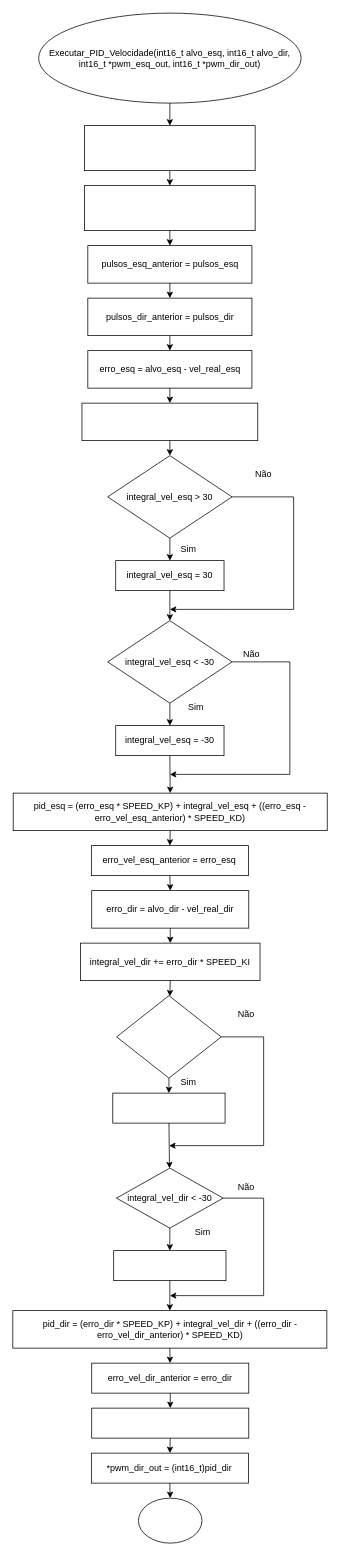
Image size: 341x1556. Some labels were removed from this diagram. The shapes that lost their labels are listed below. From the top down, each one's box as (x1, y1, x2, y2) in pixels, then its label:
(84, 125, 255, 171): vel_real_esq = (int16_t)(pulsos_esq - pulsos_esq_anterior)
(84, 185, 255, 231): vel_real_dir = (int16_t)(pulsos_dir - pulsos_dir_anterior)
(81, 402, 258, 441): integral_vel_esq += erro_esq * SPEED_KI
(116, 995, 221, 1078): integral_vel_dir > 30
(112, 1092, 225, 1123): integral_vel_dir = 30
(113, 1250, 226, 1281): integral_vel_dir = -30
(91, 1407, 249, 1438): *pwm_esq_out = (int16_t)pid_esq
(138, 1497, 202, 1543): FIm
